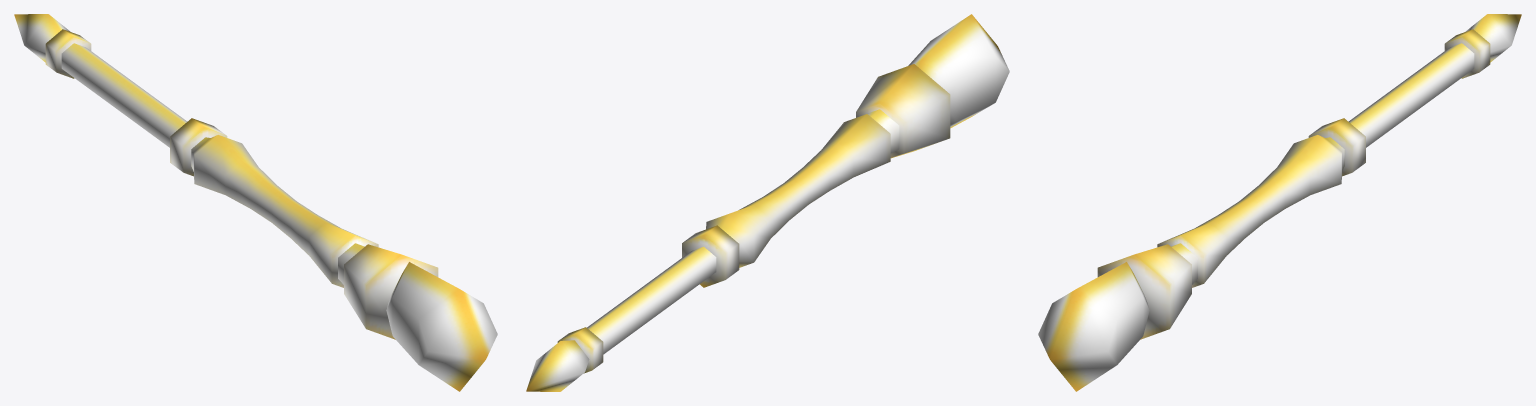
3 views of the same model, side by side, from view 1: azimuth 30°, elevation 25°; view 2: azimuth 150°, elevation 25°; view 3: azimuth 330°, elevation 25° (orthographic).
Parts seen in each view (by area): view 1: mWand; view 2: mWand; view 3: mWand.
Boxes of the visible parts, x1=… form: mWand: x1=14, y1=14, x2=497, y2=391; mWand: x1=526, y1=14, x2=1009, y2=391; mWand: x1=1038, y1=14, x2=1521, y2=391.
Size of the model in its own units: 0.0867 by 0.1178 by 0.9784.
Materials: 1 (1 with a texture image).
